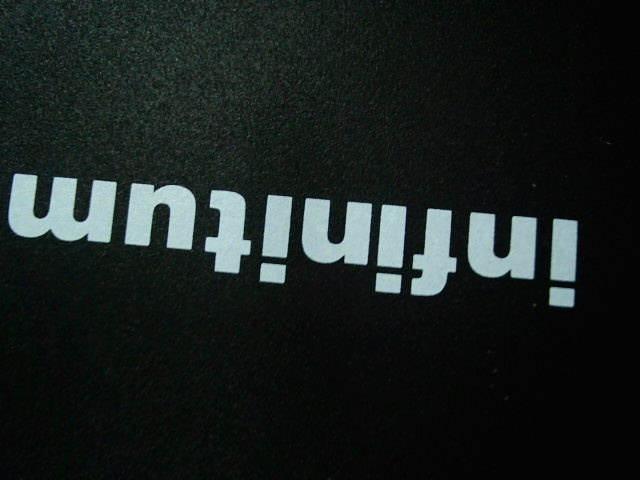BK_infinitum: (4, 165, 581, 314)
